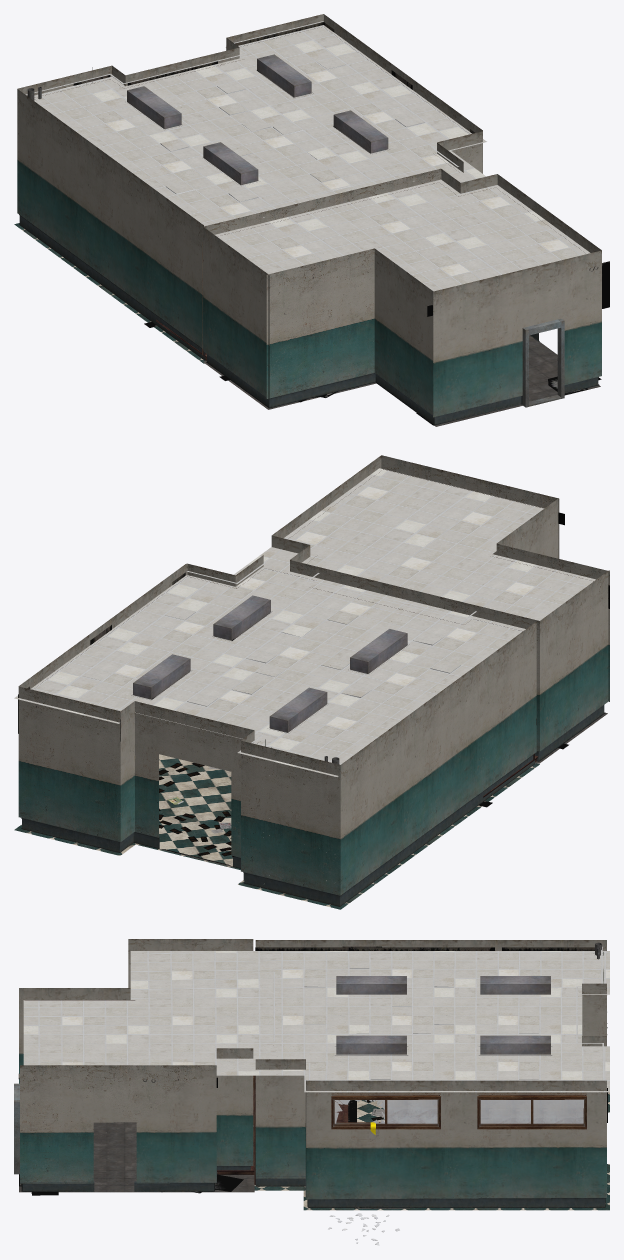
The model's file is st4_206_0_terrain_00ms.fbx.
The picture shows the model from 3 angles, top to bottom: view 1: azimuth 30°, elevation 25°; view 2: azimuth 150°, elevation 25°; view 3: azimuth 270°, elevation 25°; orthographic projection. The views are drawn at different scales.
Parts seen in each view (by area): view 1: LOD_1_Group_0_Sub_7__st2_police1fLeftWall06, LOD_1_Group_0_Sub_4__st2_police1fLeftCeiling03, LOD_1_Group_0_Sub_9__st2_police1fLeftCeiling010, LOD_1_Group_0_Sub_5__st2_police1fLeftDoor03, LOD_1_Group_0_Sub_2__st2_police1fLeftFloor011, LOD_1_Group_0_Sub_10__st2_Dirt01, LOD_1_Group_0_Sub_19__st2_police1fLeftDoor05, LOD_1_Group_0_Sub_1__st2_police1fLeftFloor05; view 2: LOD_1_Group_0_Sub_7__st2_police1fLeftWall06, LOD_1_Group_0_Sub_4__st2_police1fLeftCeiling03, LOD_1_Group_0_Sub_1__st2_police1fLeftFloor05, LOD_1_Group_0_Sub_5__st2_police1fLeftDoor03, LOD_1_Group_0_Sub_9__st2_police1fLeftCeiling010, LOD_1_Group_0_Sub_11__st2_police1fLeftStain01, LOD_1_Group_0_Sub_10__st2_Dirt01; view 3: LOD_1_Group_0_Sub_7__st2_police1fLeftWall06, LOD_1_Group_0_Sub_4__st2_police1fLeftCeiling03, LOD_1_Group_0_Sub_5__st2_police1fLeftDoor03, LOD_1_Group_0_Sub_9__st2_police1fLeftCeiling010, LOD_1_Group_0_Sub_18__st2_208_0_001_st2_208_0_WestOffic_7f68, LOD_1_Group_0_Sub_2__st2_police1fLeftFloor011, LOD_1_Group_0_Sub_17__st2_police1fLeftDoor02, LOD_1_Group_0_Sub_10__st2_Dirt01, LOD_1_Group_0_Sub_1__st2_police1fLeftFloor05, LOD_1_Group_0_Sub_3__st2_police1fLeftFloor07, LOD_1_Group_0_Sub_19__st2_police1fLeftDoor05.
Part boxes in pixels (bbox=[...]): LOD_1_Group_0_Sub_7__st2_police1fLeftWall06: bbox=[17, 14, 601, 417]; LOD_1_Group_0_Sub_4__st2_police1fLeftCeiling03: bbox=[26, 21, 590, 291]; LOD_1_Group_0_Sub_9__st2_police1fLeftCeiling010: bbox=[19, 214, 598, 425]; LOD_1_Group_0_Sub_5__st2_police1fLeftDoor03: bbox=[125, 54, 389, 185]; LOD_1_Group_0_Sub_2__st2_police1fLeftFloor011: bbox=[203, 335, 600, 426]; LOD_1_Group_0_Sub_10__st2_Dirt01: bbox=[73, 22, 609, 425]; LOD_1_Group_0_Sub_19__st2_police1fLeftDoor05: bbox=[522, 318, 564, 407]; LOD_1_Group_0_Sub_1__st2_police1fLeftFloor05: bbox=[14, 223, 205, 363]; LOD_1_Group_0_Sub_7__st2_police1fLeftWall06: bbox=[18, 455, 609, 895]; LOD_1_Group_0_Sub_4__st2_police1fLeftCeiling03: bbox=[14, 468, 595, 776]; LOD_1_Group_0_Sub_1__st2_police1fLeftFloor05: bbox=[14, 754, 539, 909]; LOD_1_Group_0_Sub_5__st2_police1fLeftDoor03: bbox=[131, 595, 409, 732]; LOD_1_Group_0_Sub_9__st2_police1fLeftCeiling010: bbox=[21, 704, 605, 906]; LOD_1_Group_0_Sub_11__st2_police1fLeftStain01: bbox=[159, 763, 231, 856]; LOD_1_Group_0_Sub_10__st2_Dirt01: bbox=[18, 512, 609, 866]; LOD_1_Group_0_Sub_7__st2_police1fLeftWall06: bbox=[19, 939, 606, 1199]; LOD_1_Group_0_Sub_4__st2_police1fLeftCeiling03: bbox=[23, 946, 609, 1092]; LOD_1_Group_0_Sub_5__st2_police1fLeftDoor03: bbox=[335, 976, 551, 1055]; LOD_1_Group_0_Sub_9__st2_police1fLeftCeiling010: bbox=[20, 1166, 605, 1207]; LOD_1_Group_0_Sub_18__st2_208_0_001_st2_208_0_WestOffic_7f68: bbox=[328, 1099, 583, 1245]; LOD_1_Group_0_Sub_2__st2_police1fLeftFloor011: bbox=[19, 1122, 254, 1192]; LOD_1_Group_0_Sub_17__st2_police1fLeftDoor02: bbox=[253, 1075, 586, 1129]; LOD_1_Group_0_Sub_10__st2_Dirt01: bbox=[19, 946, 607, 1208]; LOD_1_Group_0_Sub_1__st2_police1fLeftFloor05: bbox=[254, 1092, 609, 1210]; LOD_1_Group_0_Sub_3__st2_police1fLeftFloor07: bbox=[217, 1088, 348, 1174]; LOD_1_Group_0_Sub_19__st2_police1fLeftDoor05: bbox=[14, 1083, 19, 1174].
Size of the model in its own units: 12.17 by 4.23 by 16.93.
